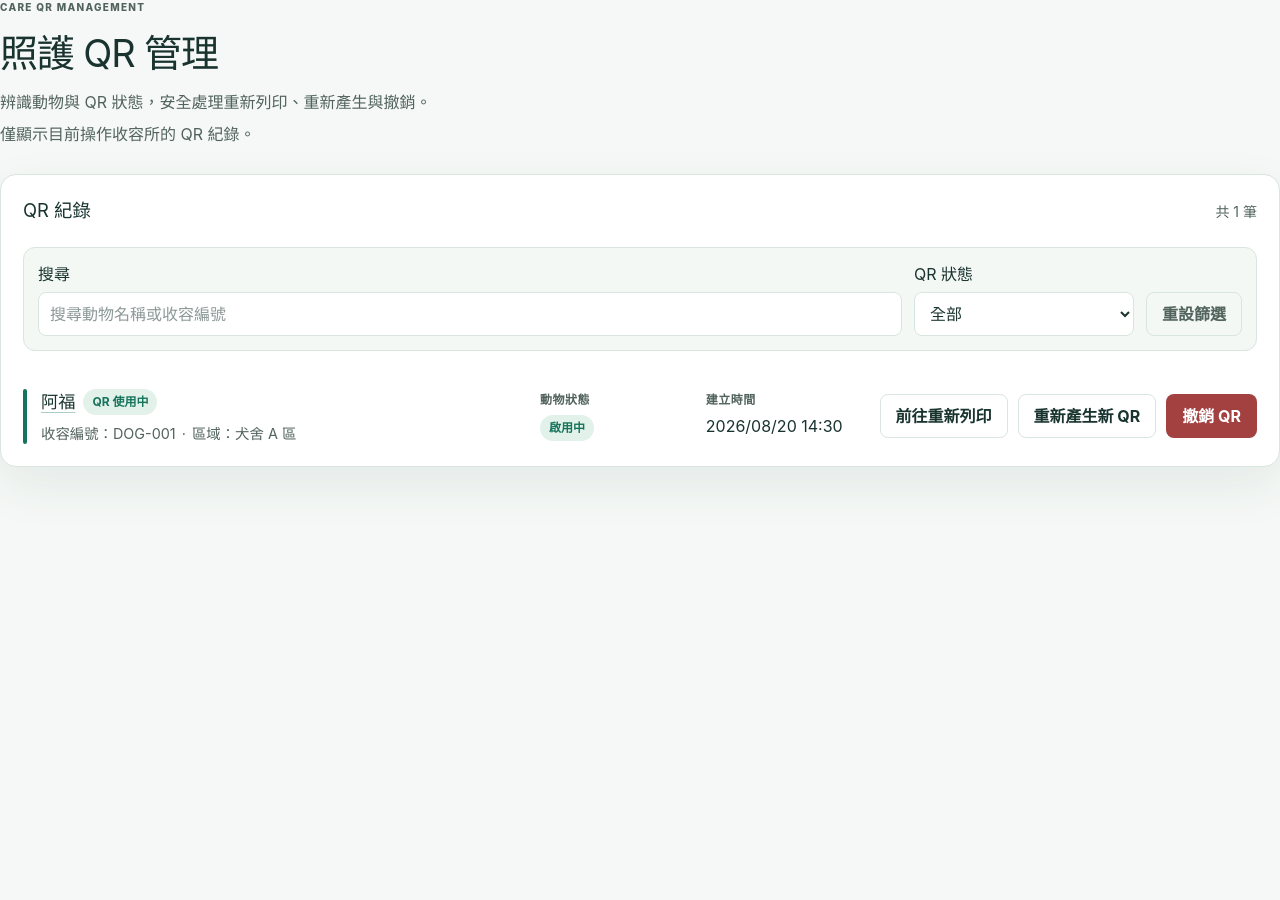
animal-aware care QR management list › uses the animal name in the existing destructive confirmation guidance
Step 1. Click the button "撤銷 QR" → click(1212, 416), box [1166,394,1257,438]
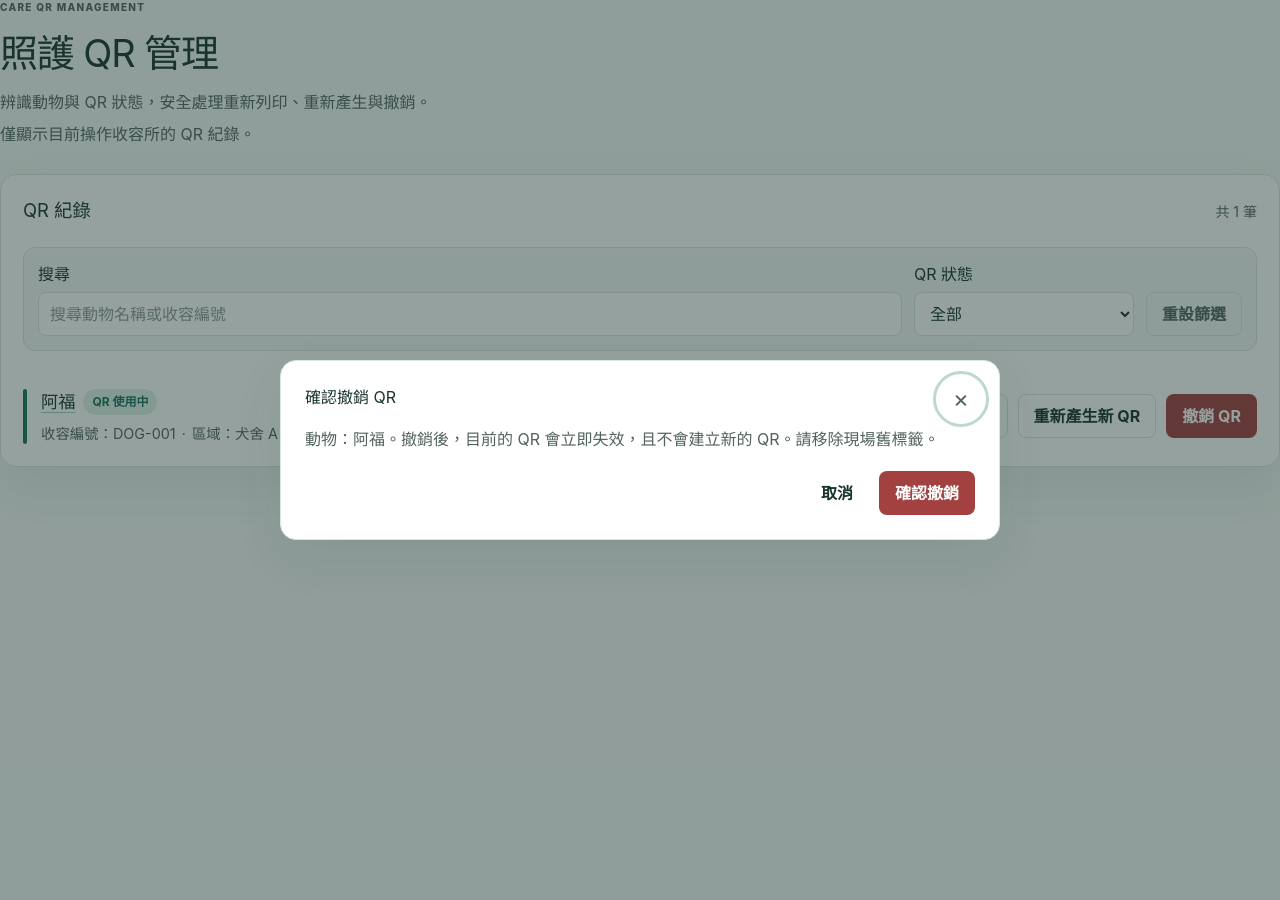
Expected: the text "確認撤銷 QR" is shown, [305,385,396,409]
Expected: the text "動物：阿福" is shown, [305,427,975,451]
Expected: the text "不會建立新的 QR" is shown, [401,429,940,449]
